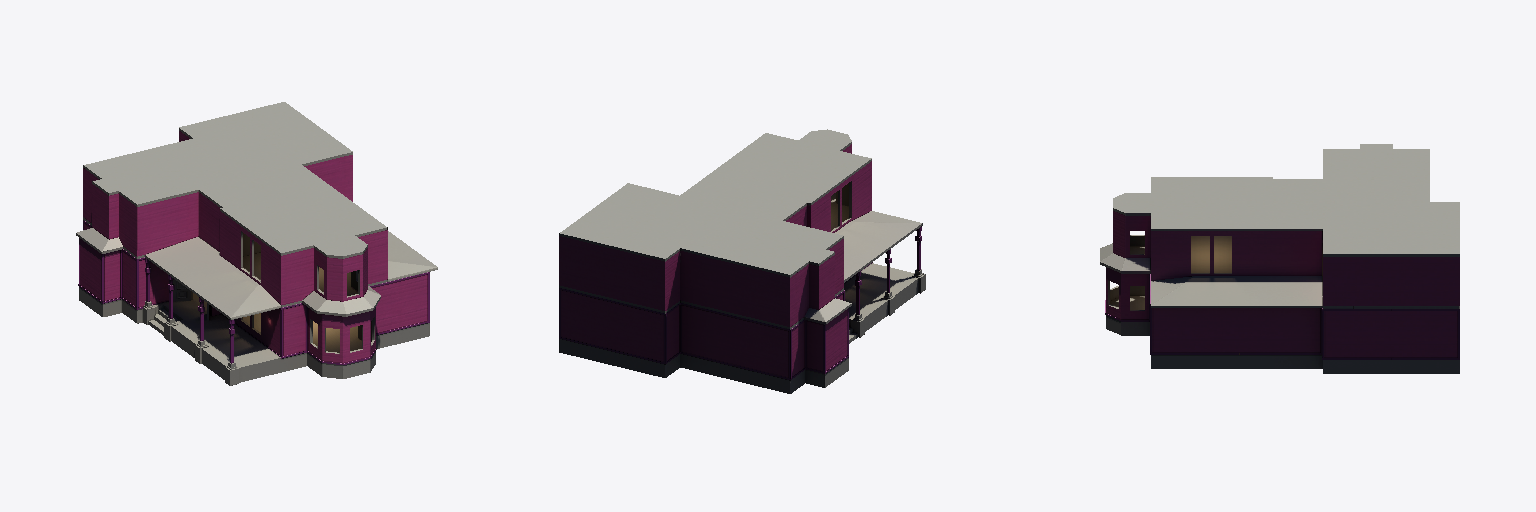
3 views of the same model, side by side, from view 1: azimuth 30°, elevation 25°; view 2: azimuth 150°, elevation 25°; view 3: azimuth 270°, elevation 25° (orthographic).
Parts seen in each view (by area): view 1: shooblockout_10; view 2: shooblockout_10; view 3: shooblockout_10.
Boxes of the visible parts, box(x1,y1,x2,y2) form: shooblockout_10: box(76, 102, 437, 385); shooblockout_10: box(559, 129, 925, 393); shooblockout_10: box(1100, 144, 1459, 373).
Bounding box in the file's own units: 15.54 × 7.45 × 20.41.
Materials: 1 (1 with a texture image).